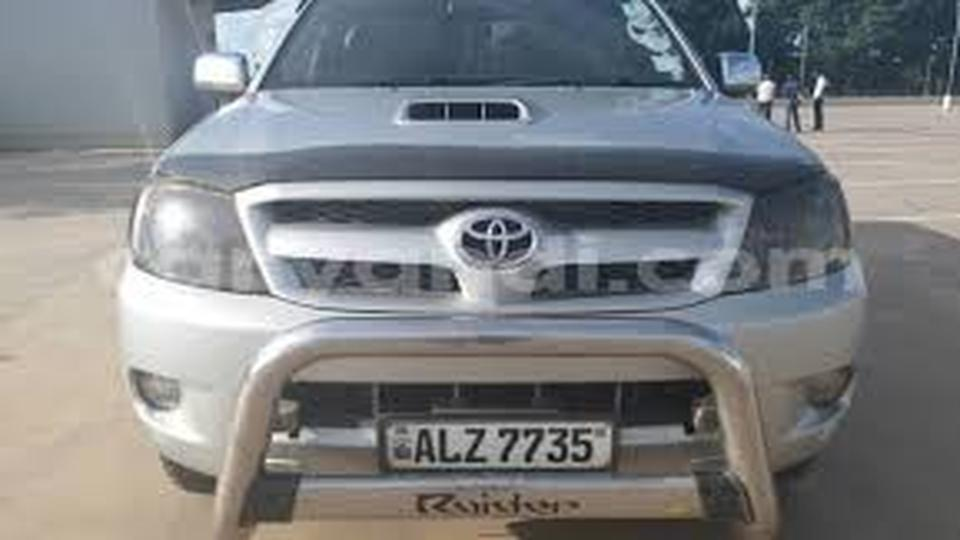NumberPlate: (385, 421, 624, 477)
